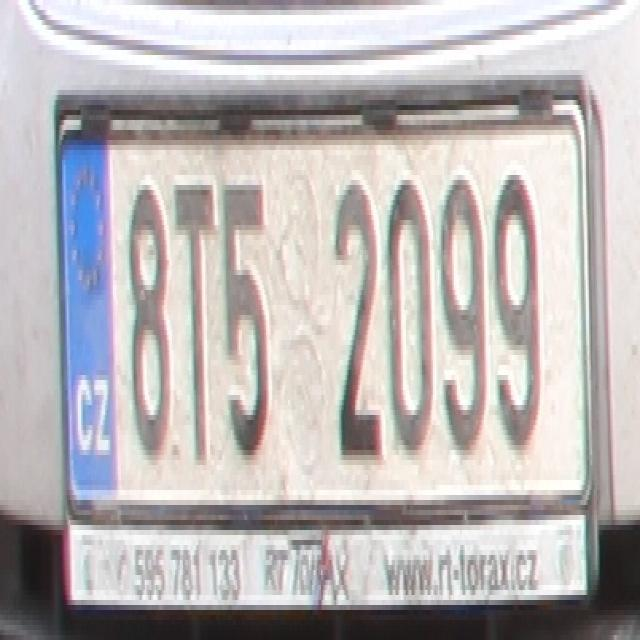0: (387, 170, 433, 460)
2: (332, 170, 382, 465)
5: (225, 180, 272, 460)
8: (127, 175, 172, 465)
9: (440, 170, 488, 445), (494, 170, 540, 445)
T: (172, 175, 216, 465)
